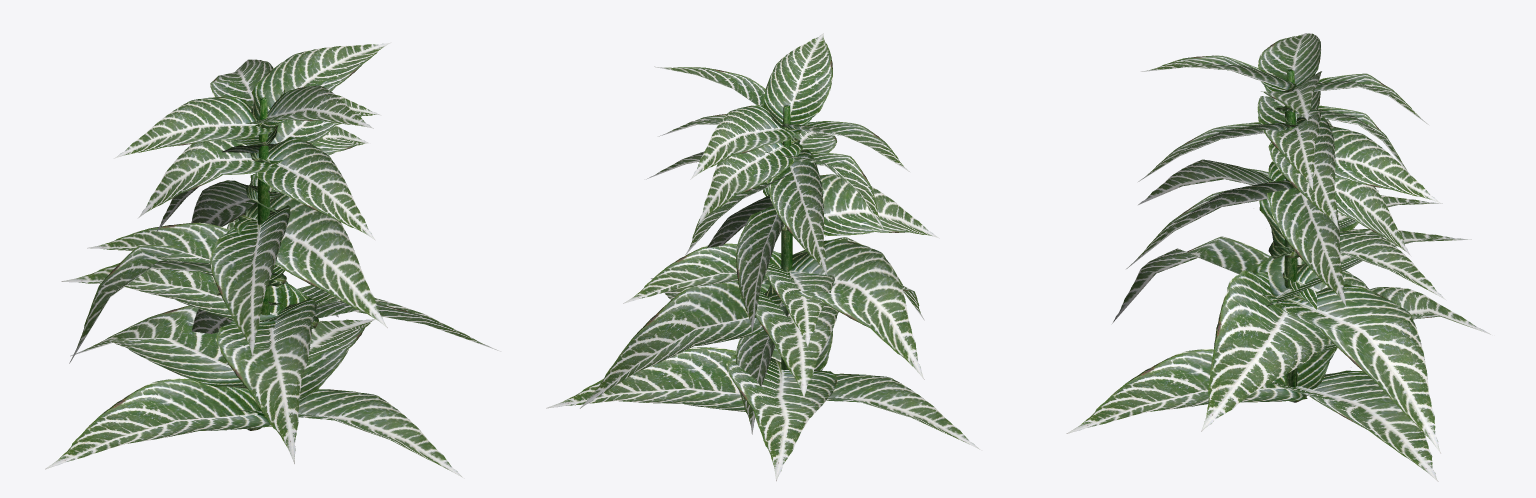
File: plant n version2.dae
The picture shows the model from 3 angles, left to right: view 1: azimuth 30°, elevation 25°; view 2: azimuth 150°, elevation 25°; view 3: azimuth 270°, elevation 25°; orthographic projection. The views are drawn at different scales.
Parts seen in each view (by area): view 1: Form1, Group2_Form1, Shape0; view 2: Form1, Group2_Form1, Shape0; view 3: Form1, Group2_Form1, Shape0.
Boxes of the visible parts, x1,y1,x2,y2 form: Form1: (45, 43, 500, 478); Group2_Form1: (114, 96, 277, 217); Shape0: (257, 97, 269, 415); Form1: (546, 33, 981, 481); Group2_Form1: (776, 121, 909, 229); Shape0: (781, 105, 792, 370); Form1: (1066, 55, 1490, 481); Group2_Form1: (1257, 33, 1320, 124); Shape0: (1284, 70, 1297, 387).
Size of the model in its own units: 93.17 by 70.92 by 86.89.
2 materials, 2 textured.
